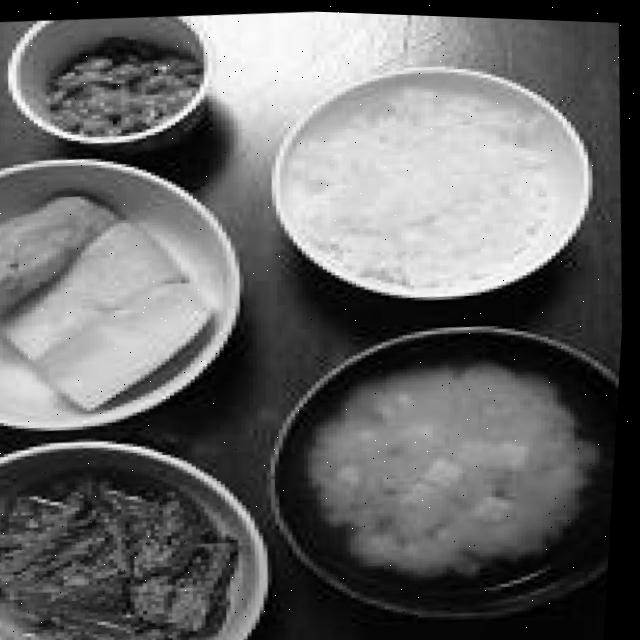米饭主食: (276, 66, 569, 319)
